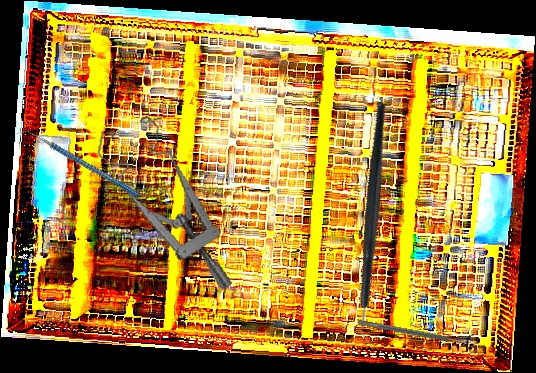Chopper: (281, 100, 472, 351), (15, 97, 141, 231)
Fixation Ring: (356, 312, 475, 352)
Speculum: (92, 104, 234, 310)
